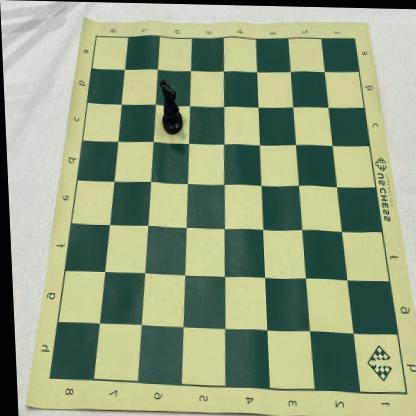black-knight: (158, 79, 182, 135)
